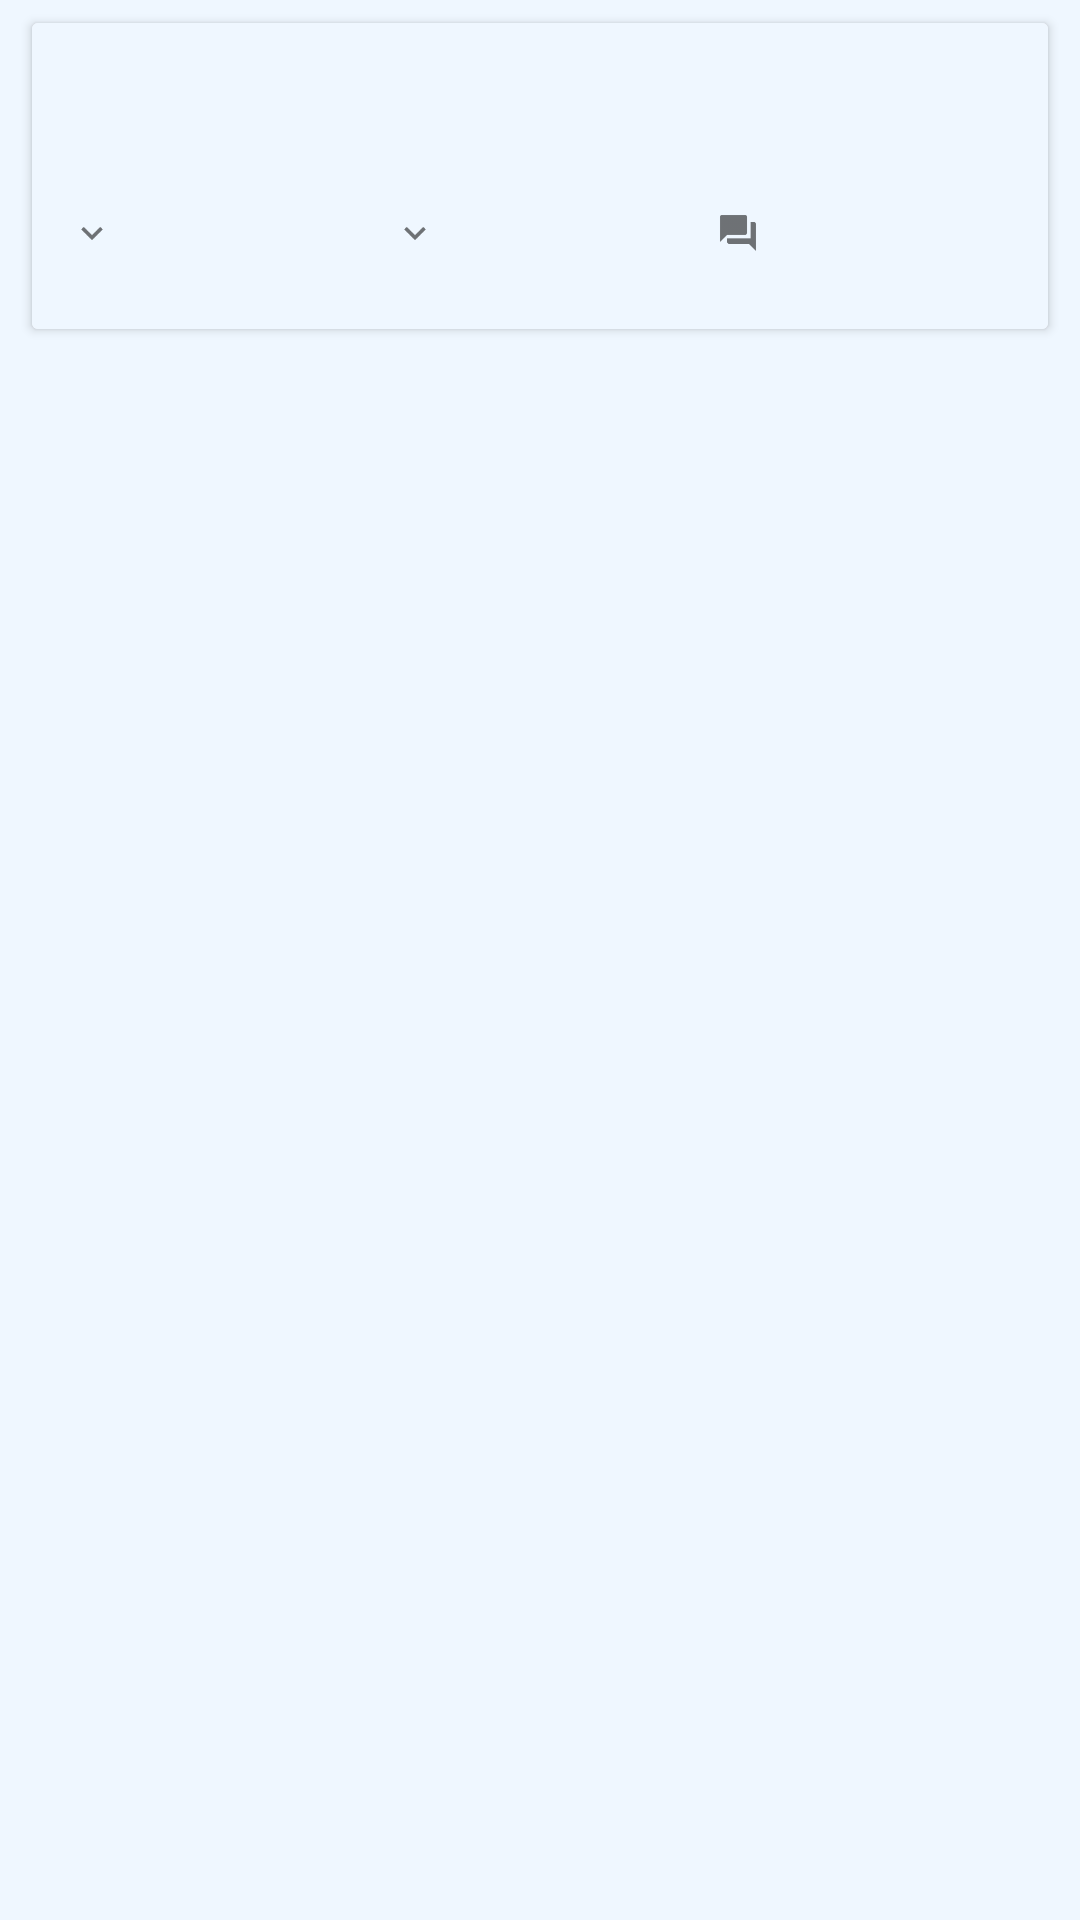

Screen size 1080x1920. Icon name, then its box in pixels as rect(x1, y1, x2, y2):
question answer: rect(720, 215, 756, 251)
